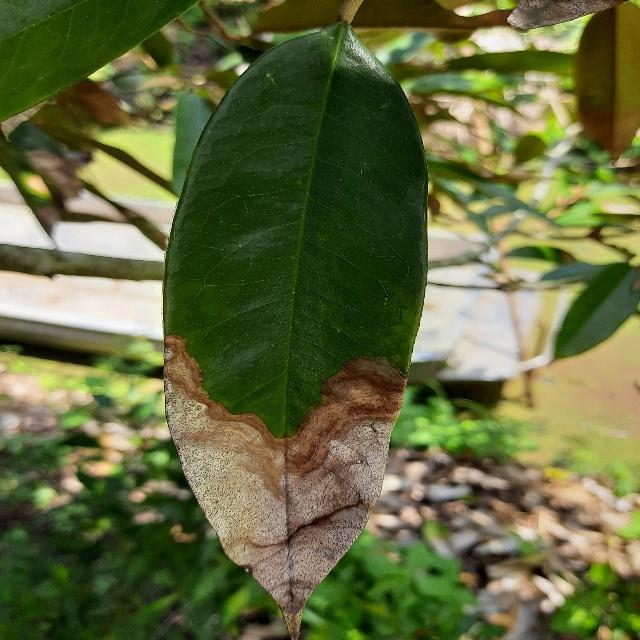Leaf Blight: (155, 9, 439, 640)
